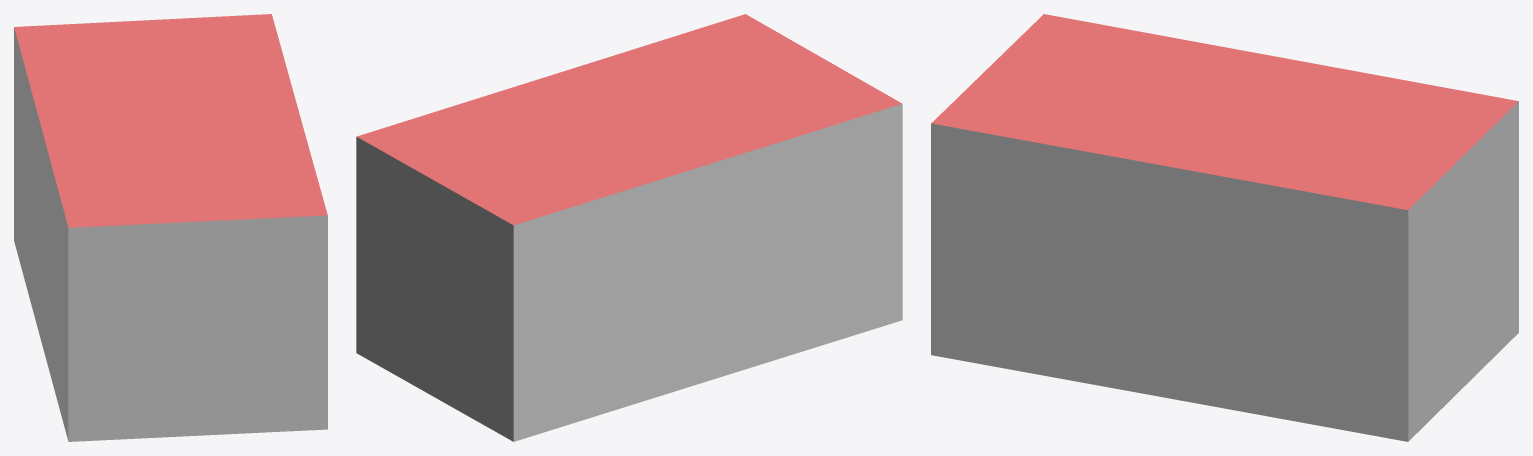
File: DEBY_LOD2_4959316.gltf
3 views of the same model, side by side, from view 1: azimuth 30°, elevation 25°; view 2: azimuth 150°, elevation 25°; view 3: azimuth 270°, elevation 25° (orthographic). The views are drawn at different scales.
Parts seen in each view (by area): view 1: Z_UP; view 2: Z_UP; view 3: Z_UP.
Part boxes in pixels (x1,y1,x2,y2): Z_UP: (14,14,327,441); Z_UP: (356,14,902,441); Z_UP: (931,14,1518,441).
Size of the model in its own units: 21.66 by 11.93 by 27.41.
